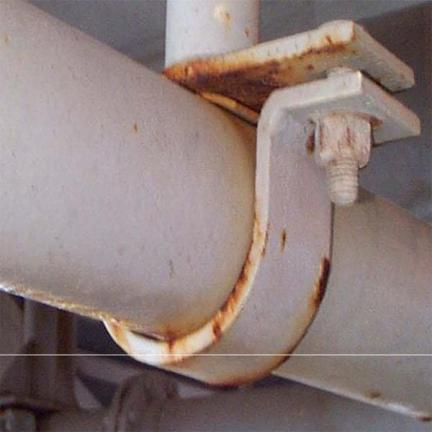karat: (98, 240, 259, 361)
